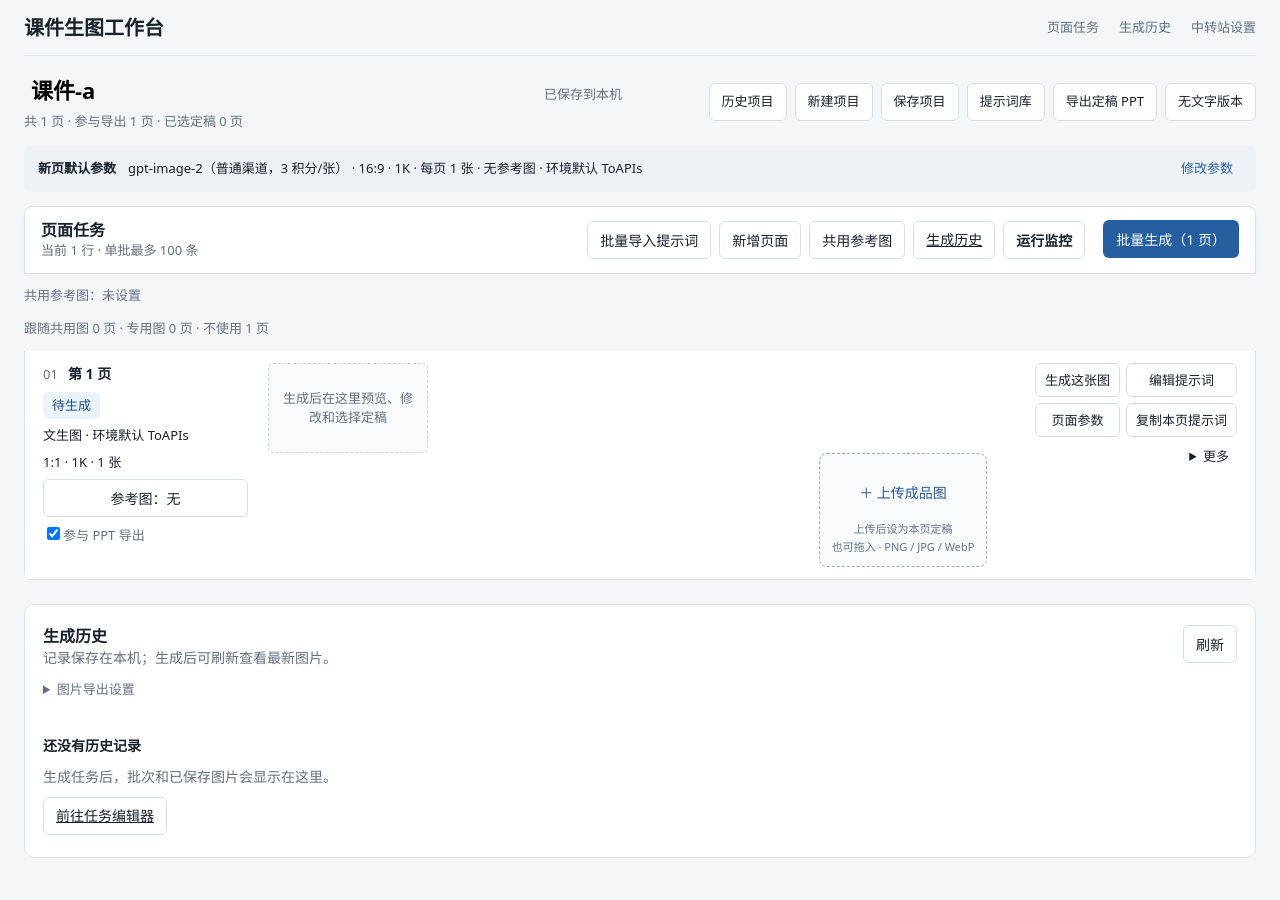
Test: shows pending save until the edited project reaches the server
The width and height of the screenshot is (1280, 900).
Replace the text in the field named "课件名称" with "尚未落盘": [284, 90] box top-left (24, 72), bottom-right (544, 108)
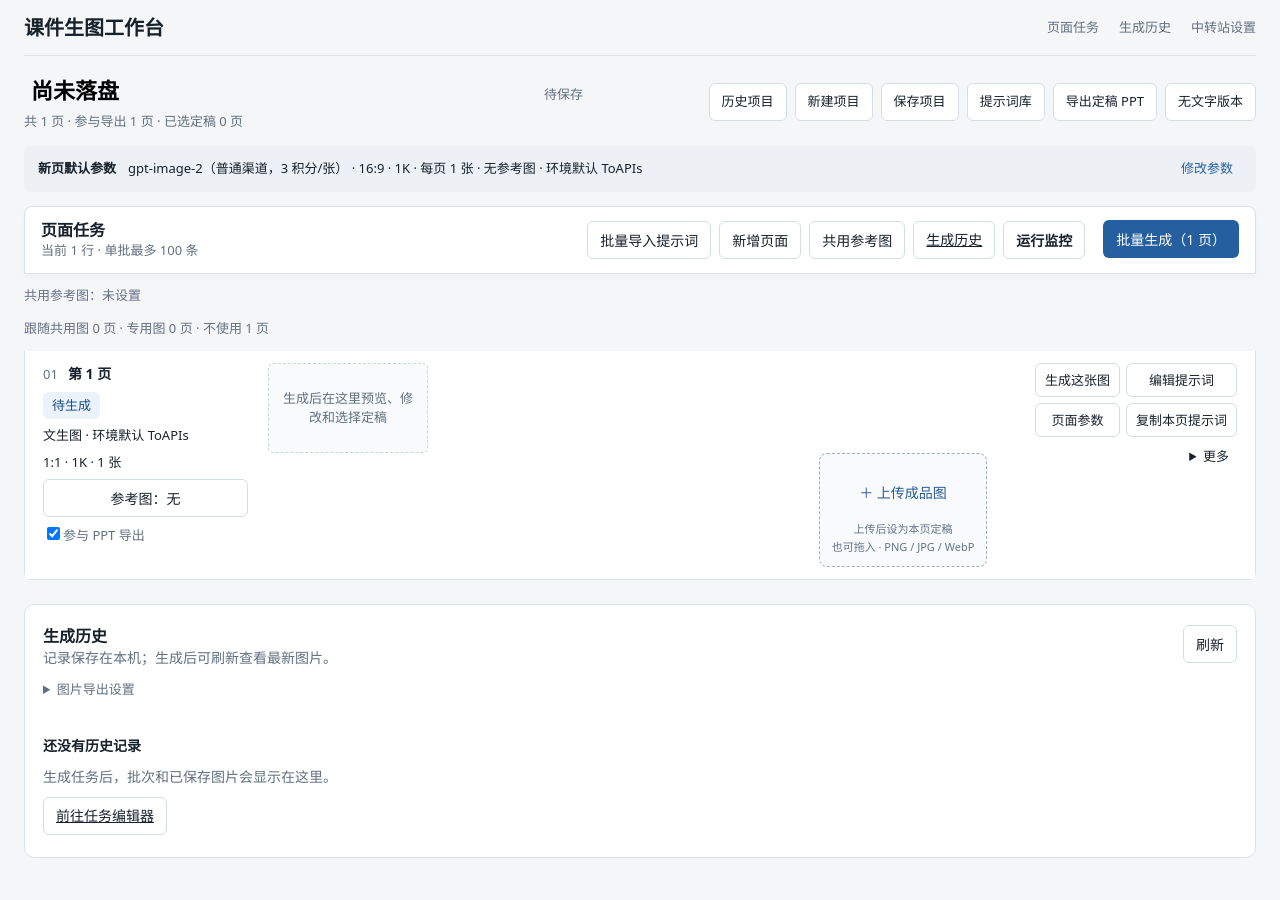
Now the text "待保存" is shown, box top-left (544, 85), bottom-right (583, 104)
Click the button "保存项目": [920, 102] box top-left (881, 83), bottom-right (959, 121)
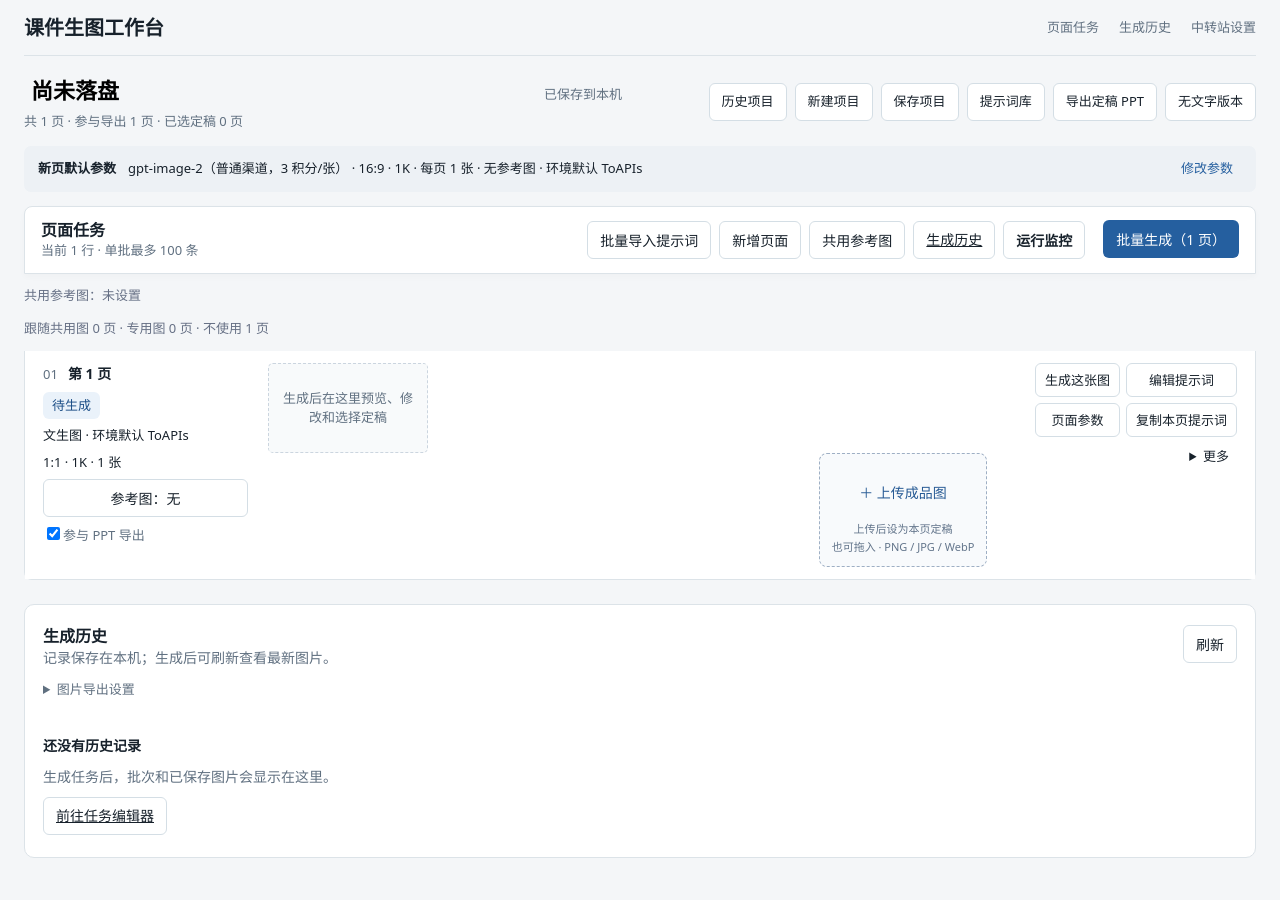
Now the text "已保存到本机" is shown, box top-left (544, 85), bottom-right (622, 104)
